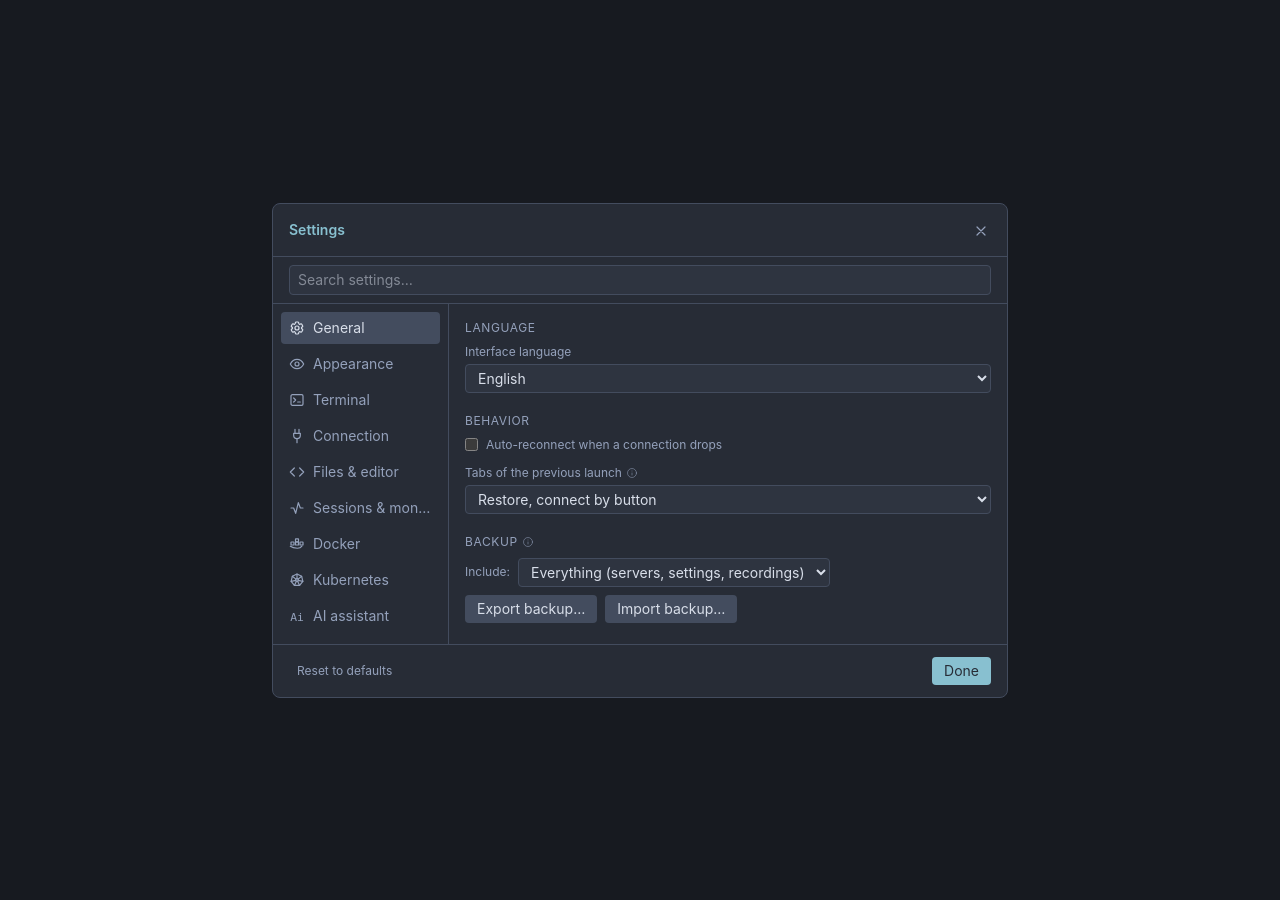
Scenario: SettingsPanel — backup › reports a settings-only import without touching servers
This screenshot has width=1280, height=900.
Step 1. Click the button with test id "backup-import" → coordinates (671, 608), box x1=605 y1=594 x2=737 y2=622
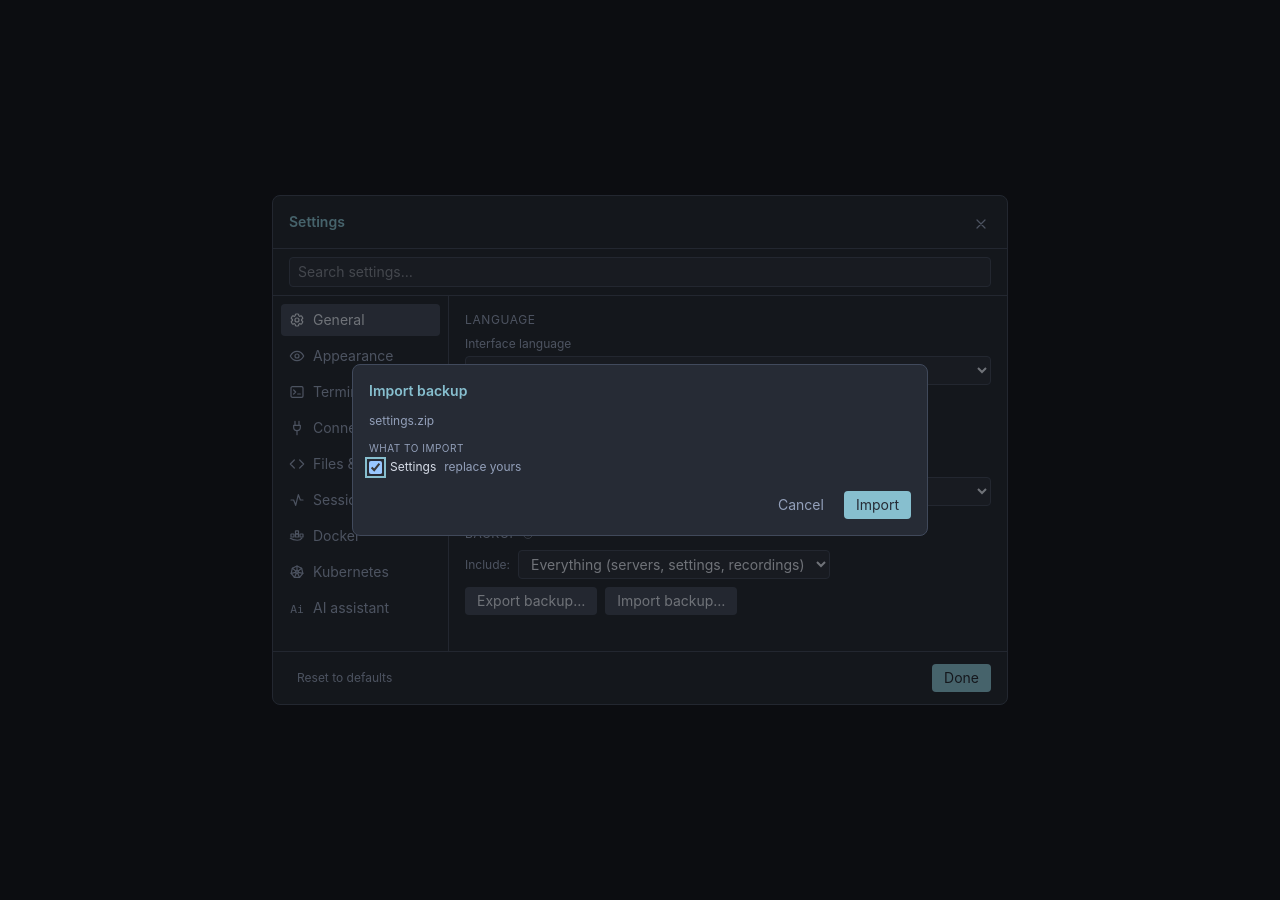
Step 2. Click the button with test id "backup-import-confirm" → coordinates (877, 505), box x1=844 y1=491 x2=911 y2=519
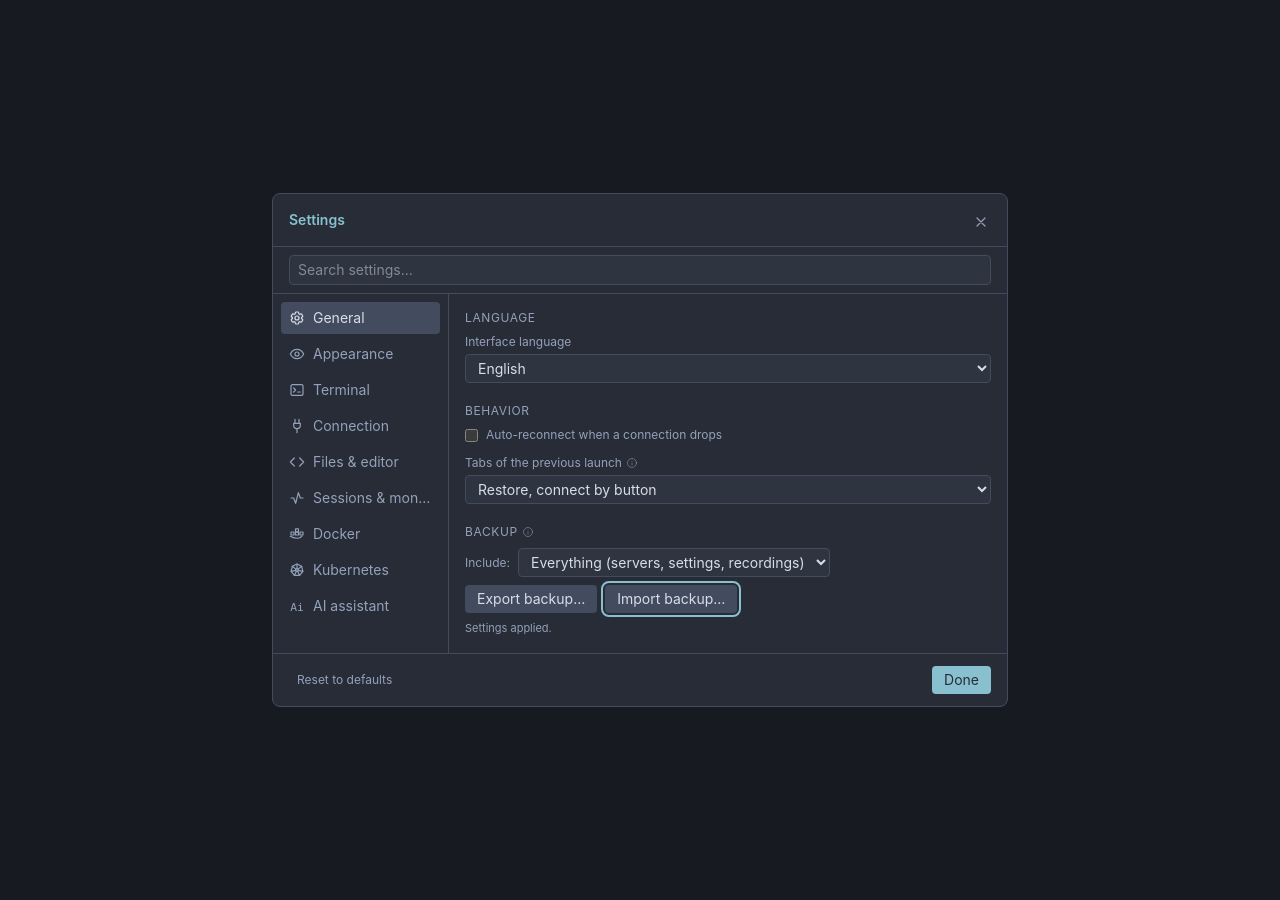
Check: the text with test id "backup-msg" does not show "server", box x1=465 y1=621 x2=552 y2=635
Check: the text with test id "backup-msg" shows "Settings applied", box x1=465 y1=621 x2=552 y2=635
